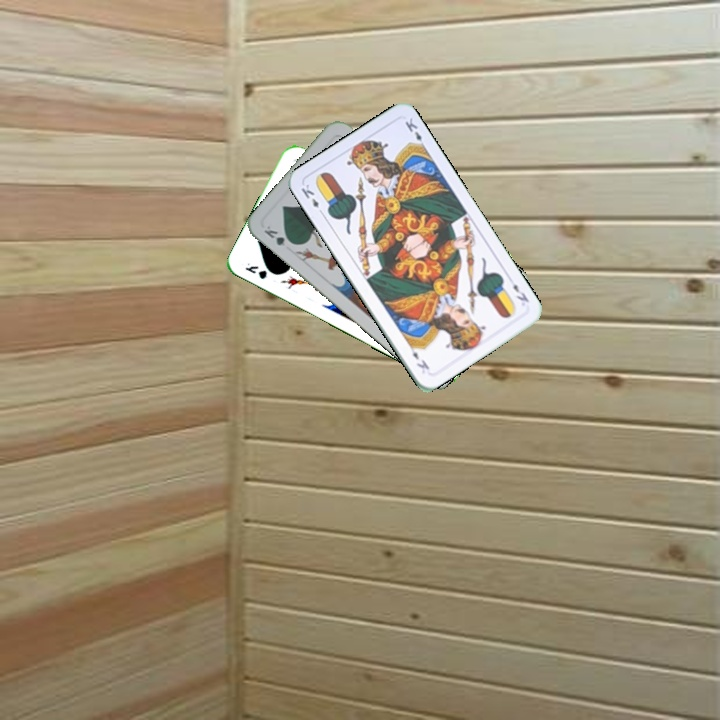EK: (297, 180, 326, 218), (506, 273, 532, 305)
GK: (260, 221, 297, 249), (241, 259, 270, 282)
